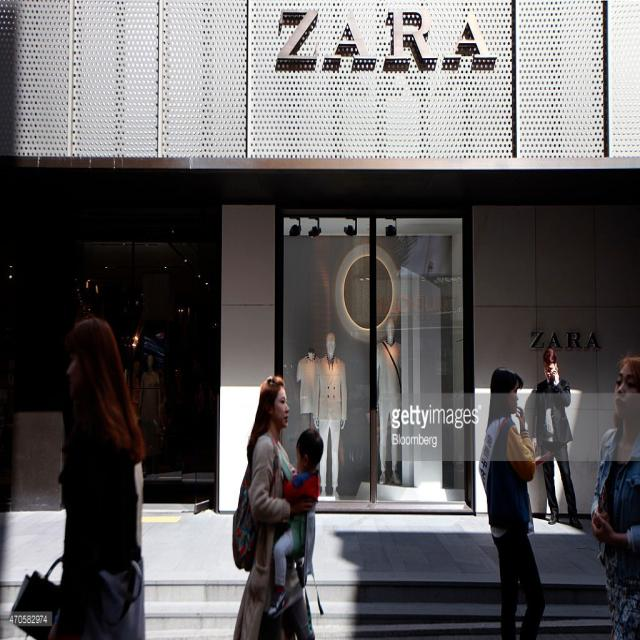body: (6, 314, 149, 640), (229, 372, 322, 639), (476, 365, 548, 639), (314, 315, 403, 497), (590, 355, 640, 640), (265, 426, 324, 622), (533, 343, 588, 535), (124, 354, 162, 441), (294, 347, 314, 417)
